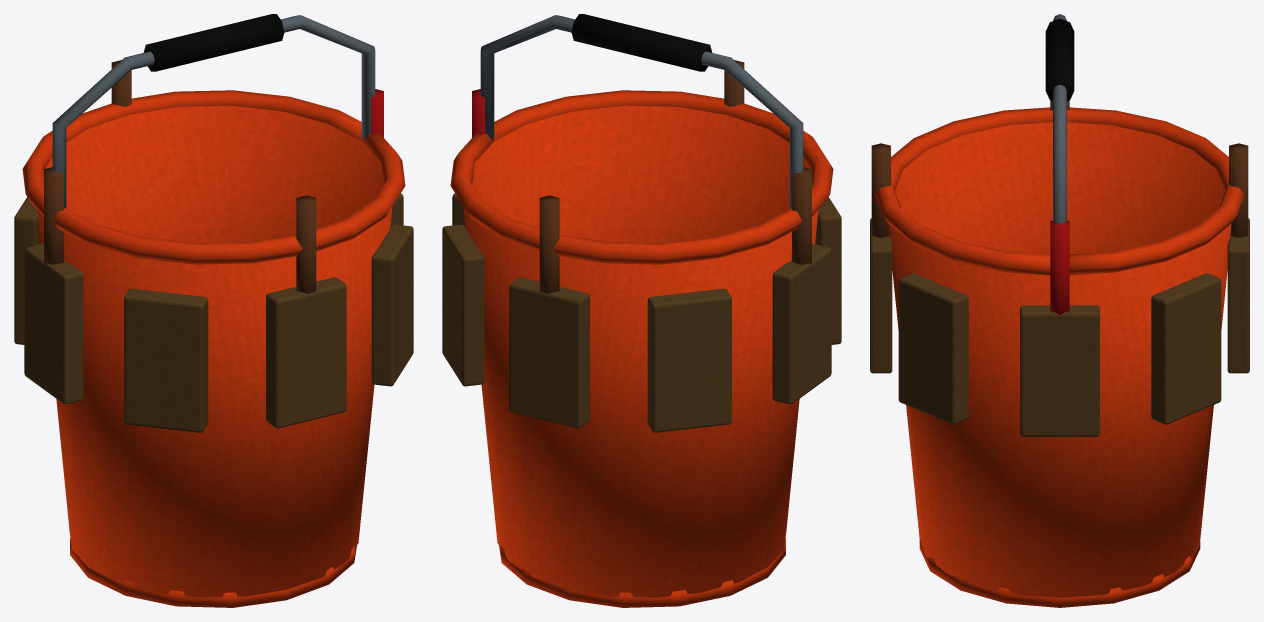
File: ToolBucket.gltf
The picture shows the model from 3 angles, left to right: view 1: azimuth 30°, elevation 25°; view 2: azimuth 150°, elevation 25°; view 3: azimuth 270°, elevation 25°; orthographic projection. The views are drawn at different scales.
Visible parts, largest first — view 1: ToolBucket__Body; view 2: ToolBucket__Body; view 3: ToolBucket__Body.
Part boxes in pixels (box(x1,y1,x2,y2)): ToolBucket__Body: box(14, 14, 413, 607); ToolBucket__Body: box(442, 14, 841, 607); ToolBucket__Body: box(870, 14, 1249, 607).
Bounding box in the file's own units: 0.3332 × 0.4844 × 0.3332.
1 material, 1 textured.
